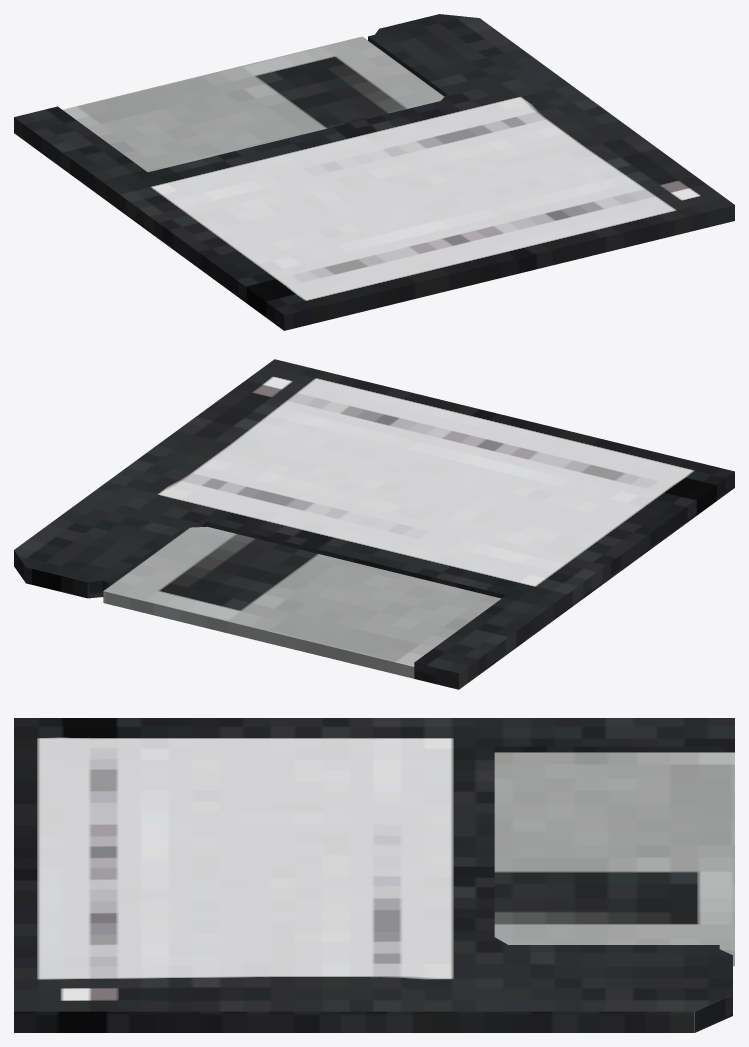
File: floppy.fbx
3 renders of one model, top to bottom at view 1: azimuth 30°, elevation 25°; view 2: azimuth 150°, elevation 25°; view 3: azimuth 270°, elevation 25°, orthographic. The views are drawn at different scales.
Visible parts, largest first — view 1: Floppy; view 2: Floppy; view 3: Floppy.
Part boxes in pixels (left/top/right/bottom): Floppy: left=14, top=14, right=734, bottom=330; Floppy: left=14, top=359, right=734, bottom=689; Floppy: left=14, top=718, right=734, bottom=1032.
Size of the model in its own units: 0.0873 by 0.00296 by 0.0907.
